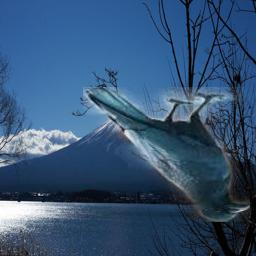Crow: (83, 87, 250, 222)
